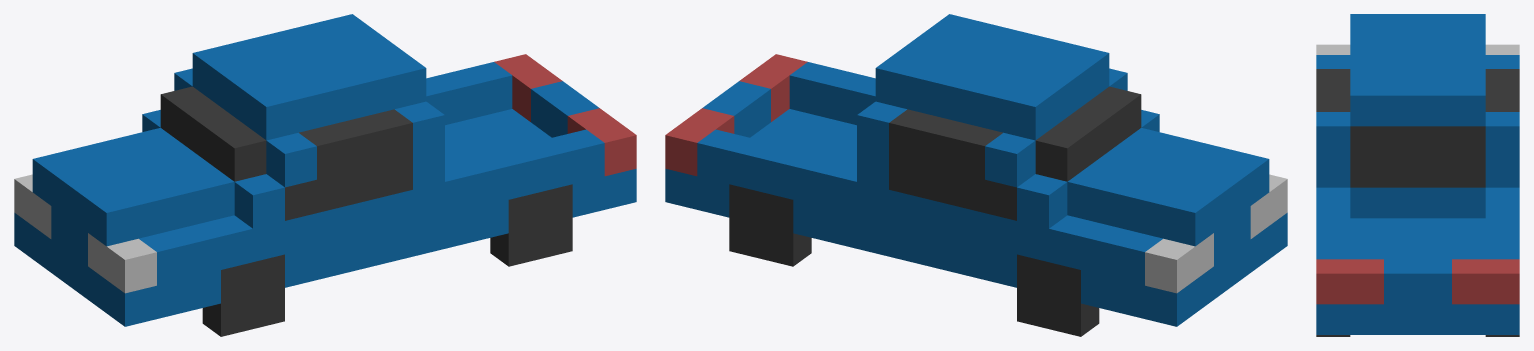
The model's file is car-v5-blue.gltf.
The picture shows the model from 3 angles, left to right: view 1: azimuth 30°, elevation 25°; view 2: azimuth 150°, elevation 25°; view 3: azimuth 270°, elevation 25°; orthographic projection. The views are drawn at different scales.
Visible parts, largest first — view 1: model, wheels; view 2: model, wheels; view 3: model.
Part boxes in pixels (x1,y1,x2,y2): model: (14, 14, 636, 326); wheels: (202, 184, 572, 336); model: (665, 14, 1287, 326); wheels: (729, 184, 1099, 336); model: (1316, 14, 1519, 334).
Bounding box in the file's own units: 1.6 × 0.6 × 0.6.
2 materials, 2 textured.
